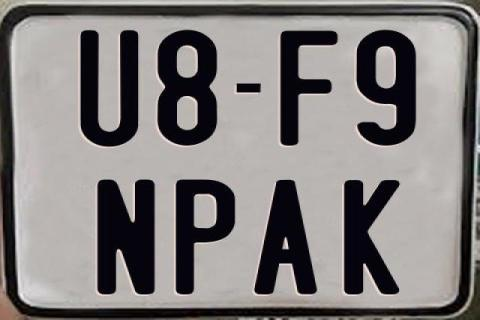0: (158, 28, 223, 148), (356, 29, 420, 149)
A: (251, 178, 316, 292)
F: (280, 28, 339, 146)
K: (341, 180, 399, 298)
N: (96, 177, 158, 297)
P: (176, 179, 235, 295)
U: (79, 28, 141, 149)
